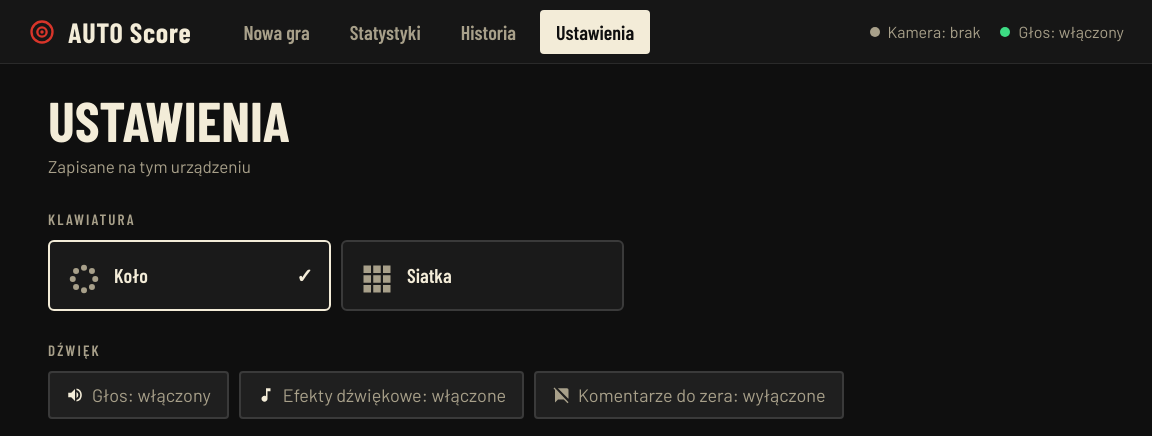
Test case: SettingsScreen › keeps the stored zero comments choice when the voice goes off and on
Step 1. Click the button "Komentarze do zera: wyłączone" → (689, 395), box [534,371,844,419]
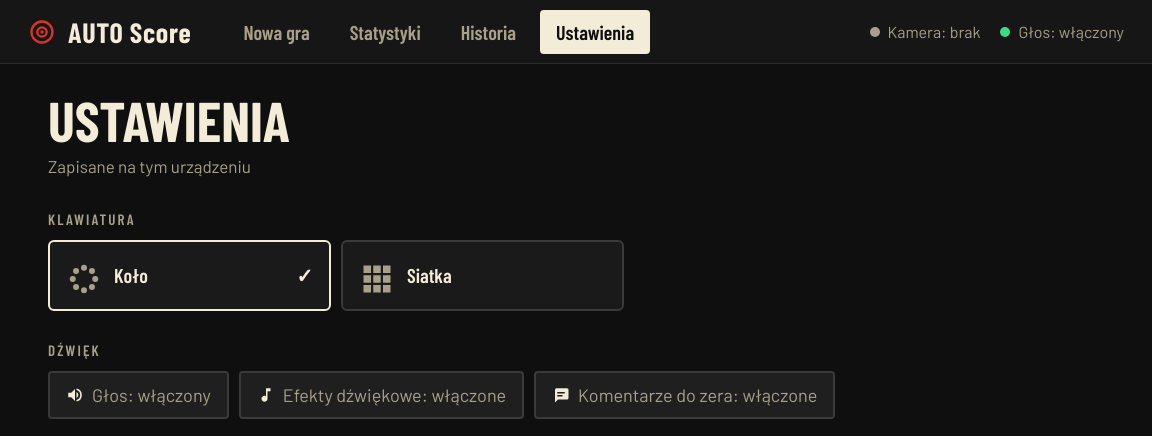
Step 2. Click the button "Głos: włączony" → (138, 395), box [48,371,229,419]
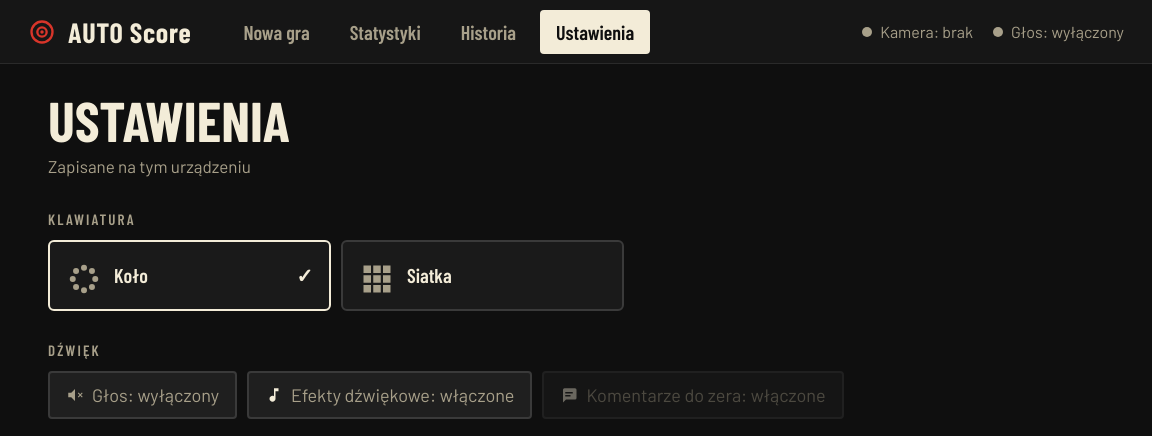
expect the button "Komentarze do zera: włączone" is disabled: met, box [542,371,844,419]
Step 3. Click the button "Głos: wyłączony" → (143, 395), box [48,371,237,419]
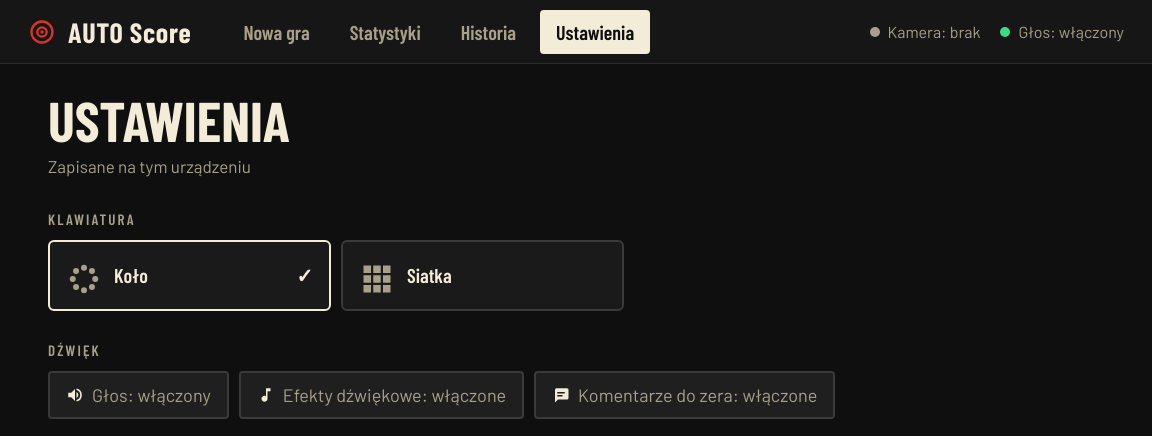
expect the button "Komentarze do zera: włączone" is enabled: met, box [534,371,835,419]
